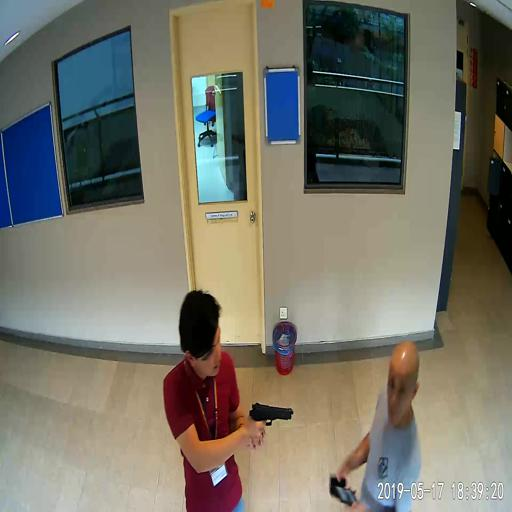pistol: (249, 403, 293, 444)
